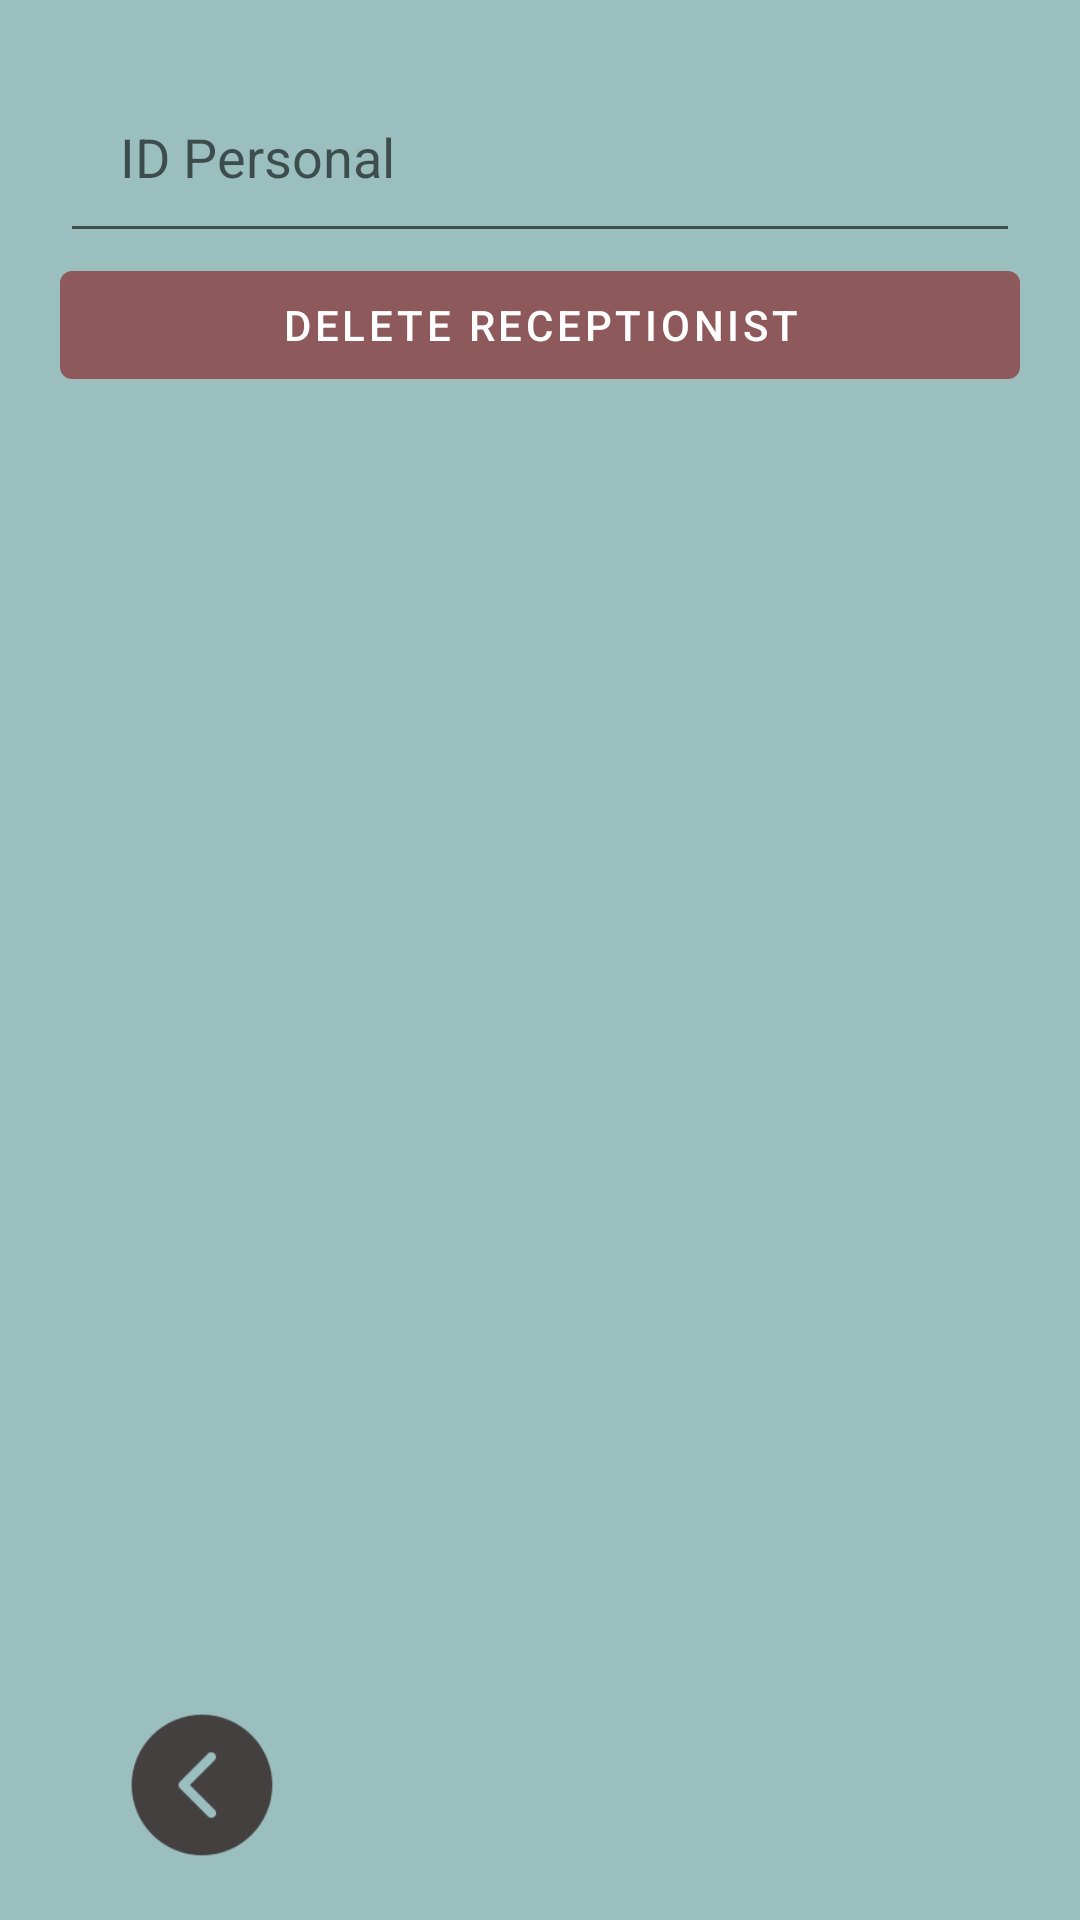

Icon click points for this 1080px×1920px phone screenshot, format (x=x, y=y):
back: (x=202, y=1785)
